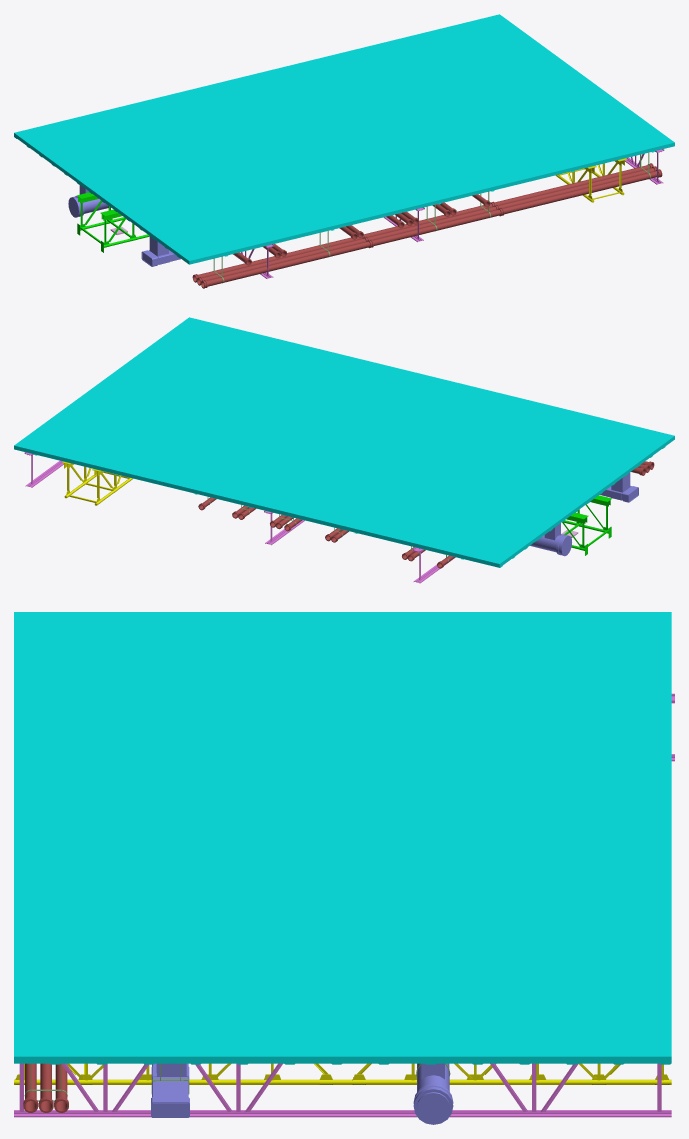
File: ceiling_GRP.fbx
The picture shows the model from 3 angles, top to bottom: view 1: azimuth 30°, elevation 25°; view 2: azimuth 150°, elevation 25°; view 3: azimuth 270°, elevation 25°; orthographic projection. The views are drawn at different scales.
Visible parts, largest first — view 1: ceiling_type_aluminium_02, pipes_B_01, pipes_A_01, cantilever_scaffolding_A_01, cantilever_scaffolding_B_01, hangers_B_01; view 2: ceiling_type_aluminium_02, cantilever_scaffolding_B_01, pipes_A_01, cantilever_scaffolding_A_01, ventilation_round_01; view 3: ceiling_type_aluminium_02, light_hangers_03, cantilever_scaffolding_B_01, pipes_B_01, ventilation_round_01, ventilation_rectangular_01.
Part boxes in pixels (x1,y1,x2,y2): ceiling_type_aluminium_02: (14, 14, 674, 264); pipes_B_01: (193, 165, 658, 287); pipes_A_01: (233, 194, 489, 264); cantilever_scaffolding_A_01: (77, 200, 149, 252); cantilever_scaffolding_B_01: (555, 162, 624, 202); hangers_B_01: (213, 152, 650, 283); ceiling_type_aluminium_02: (14, 317, 674, 567); cantilever_scaffolding_B_01: (64, 464, 132, 505); pipes_A_01: (199, 497, 454, 567); cantilever_scaffolding_A_01: (562, 504, 611, 555); ventilation_round_01: (530, 535, 571, 554); ceiling_type_aluminium_02: (14, 612, 671, 1064); light_hangers_03: (14, 1063, 671, 1117); cantilever_scaffolding_B_01: (14, 1063, 671, 1084); pipes_B_01: (25, 1063, 67, 1110); ventilation_round_01: (417, 1063, 449, 1122); ventilation_rectangular_01: (152, 1063, 188, 1116).
Bounding box in the file's own units: 1636 × 165 × 1005.
